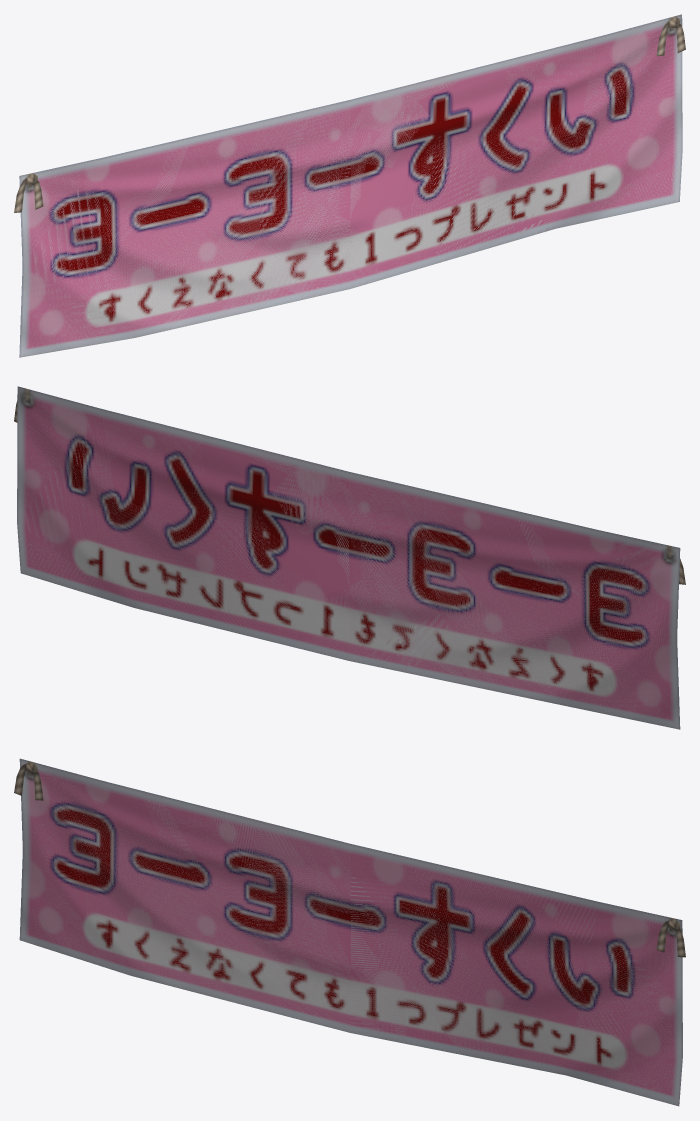
Rendered from jsf_Flyer_WaterBalloonFishing_11.fbx.
3 views of the same model, one above another, from view 1: azimuth 30°, elevation 25°; view 2: azimuth 150°, elevation 25°; view 3: azimuth 330°, elevation 25° (orthographic).
Parts seen in each view (by area): view 1: jsf_Flyer_WaterBalloonFishing_11; view 2: jsf_Flyer_WaterBalloonFishing_11; view 3: jsf_Flyer_WaterBalloonFishing_11.
Boxes of the visible parts, x1,y1,x2,y2 form: jsf_Flyer_WaterBalloonFishing_11: [14, 14, 685, 357]; jsf_Flyer_WaterBalloonFishing_11: [14, 386, 685, 729]; jsf_Flyer_WaterBalloonFishing_11: [14, 758, 685, 1106].
Bounding box in the file's own units: 122 × 33.55 × 2.23.
